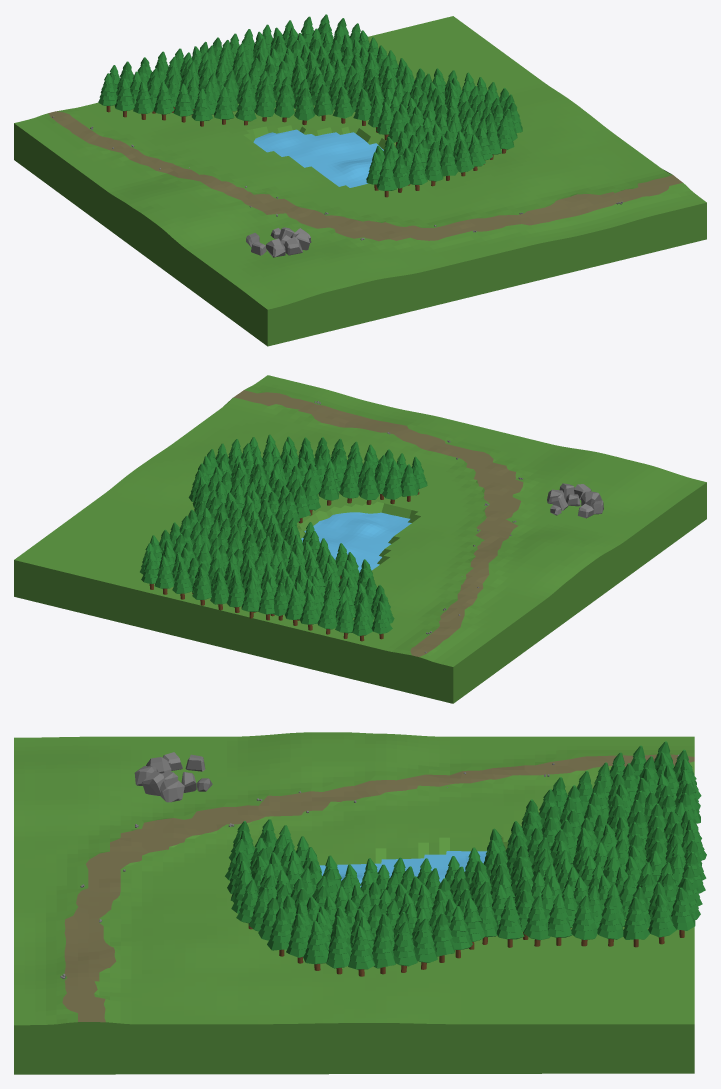
The model's file is Terrain 1.fbx.
3 renders of one model, top to bottom at view 1: azimuth 30°, elevation 25°; view 2: azimuth 150°, elevation 25°; view 3: azimuth 270°, elevation 25°, orthographic. The views are drawn at different scales.
Visible parts, largest first — view 1: Cube, Plane; view 2: Cube, Plane; view 3: Cube, Plane, Circle.119, Circle.118, Circle.117, Circle.122, Circle.121, Circle.116, Circle.174, Circle.172, Circle.120, Circle.138 (+11 smaller).
Part boxes in pixels (x1,y1,x2,y2): Cube: (14, 16, 706, 346); Plane: (253, 129, 383, 187); Cube: (14, 375, 706, 703); Plane: (301, 512, 411, 572); Cube: (14, 732, 694, 1074); Plane: (319, 851, 486, 887); Circle.119: (571, 895, 597, 946); Circle.118: (597, 894, 623, 946); Circle.117: (623, 897, 649, 947); Circle.122: (496, 895, 524, 947); Circle.121: (523, 895, 550, 946); Circle.116: (648, 893, 676, 944); Circle.174: (348, 926, 375, 976); Circle.172: (303, 920, 328, 970); Circle.120: (548, 893, 572, 945); Circle.138: (393, 921, 417, 972).
Bounding box in the file's own units: 5135 × 835 × 5225.
